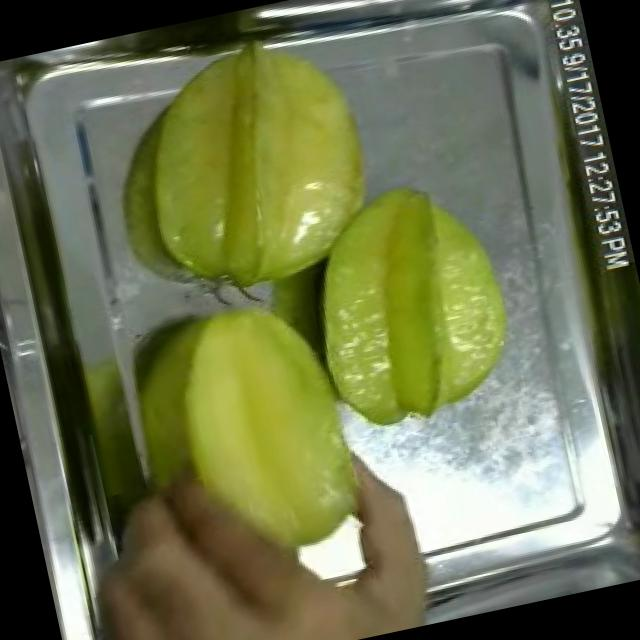fruit: (110, 10, 398, 318), (136, 272, 382, 590), (276, 155, 534, 449)
